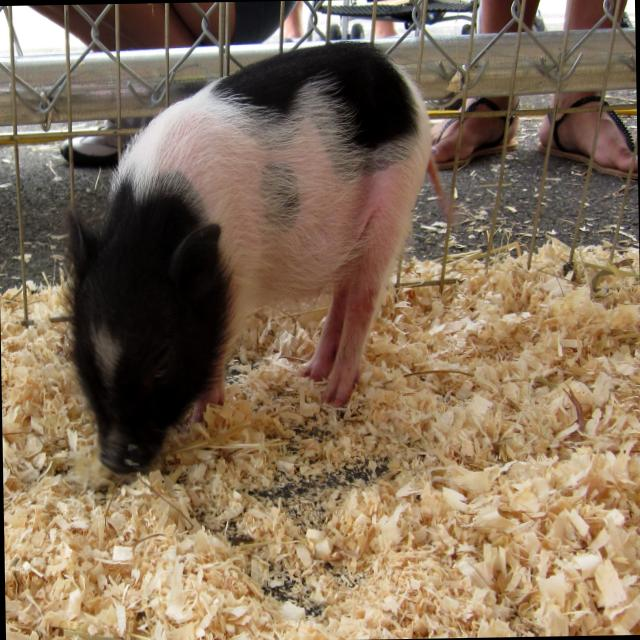pig: (68, 43, 432, 481)
